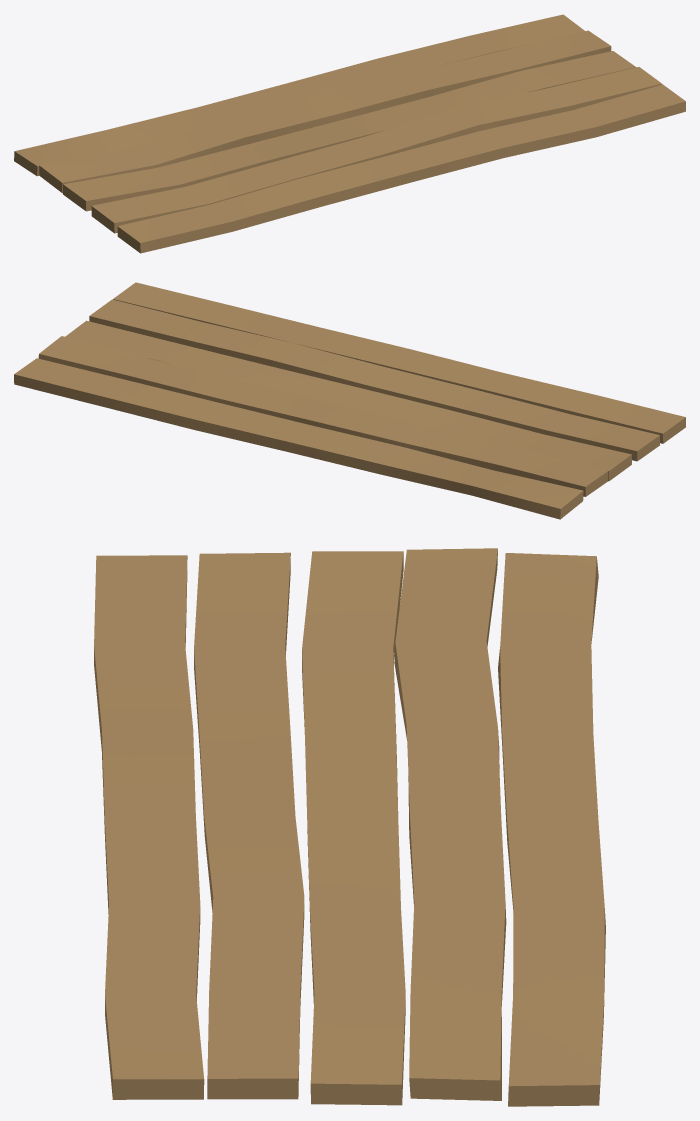
The model's file is board_01_a.fbx.
The picture shows the model from 3 angles, top to bottom: view 1: azimuth 30°, elevation 25°; view 2: azimuth 150°, elevation 25°; view 3: azimuth 270°, elevation 25°; orthographic projection. The views are drawn at different scales.
Parts seen in each view (by area): view 1: Board_01_a; view 2: Board_01_a; view 3: Board_01_a.
Boxes of the visible parts, x1,y1,x2,y2 form: Board_01_a: [14, 14, 685, 253]; Board_01_a: [14, 282, 685, 519]; Board_01_a: [94, 548, 605, 1106].
Bounding box in the file's own units: 47.35 × 19.22 × 1.56.
